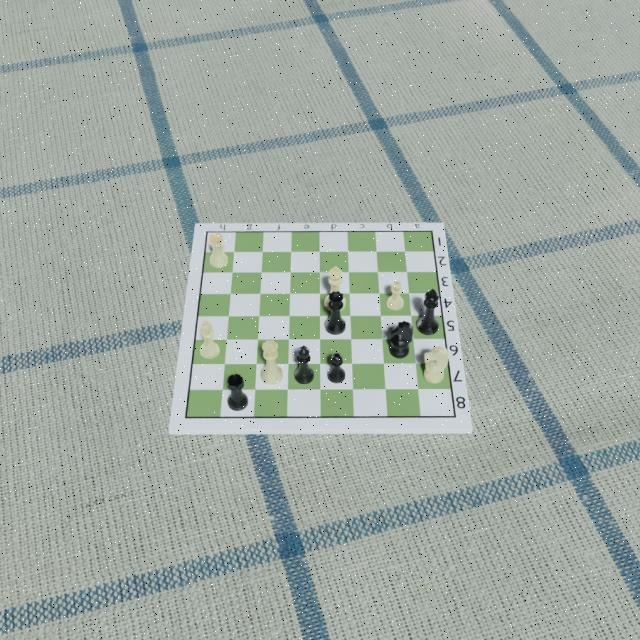black-bishop: (292, 344, 315, 387)
black-king: (416, 288, 440, 336)
black-knight: (386, 318, 414, 360)
black-pawn: (324, 351, 347, 385)
black-queen: (323, 290, 346, 335)
black-rook: (226, 371, 250, 413)
white-bishop: (198, 320, 221, 360)
white-king: (324, 265, 344, 311)
white-knight: (421, 344, 451, 384)
white-pawn: (385, 280, 406, 312)
white-queen: (260, 337, 284, 387)
white-rook: (207, 230, 230, 270)
